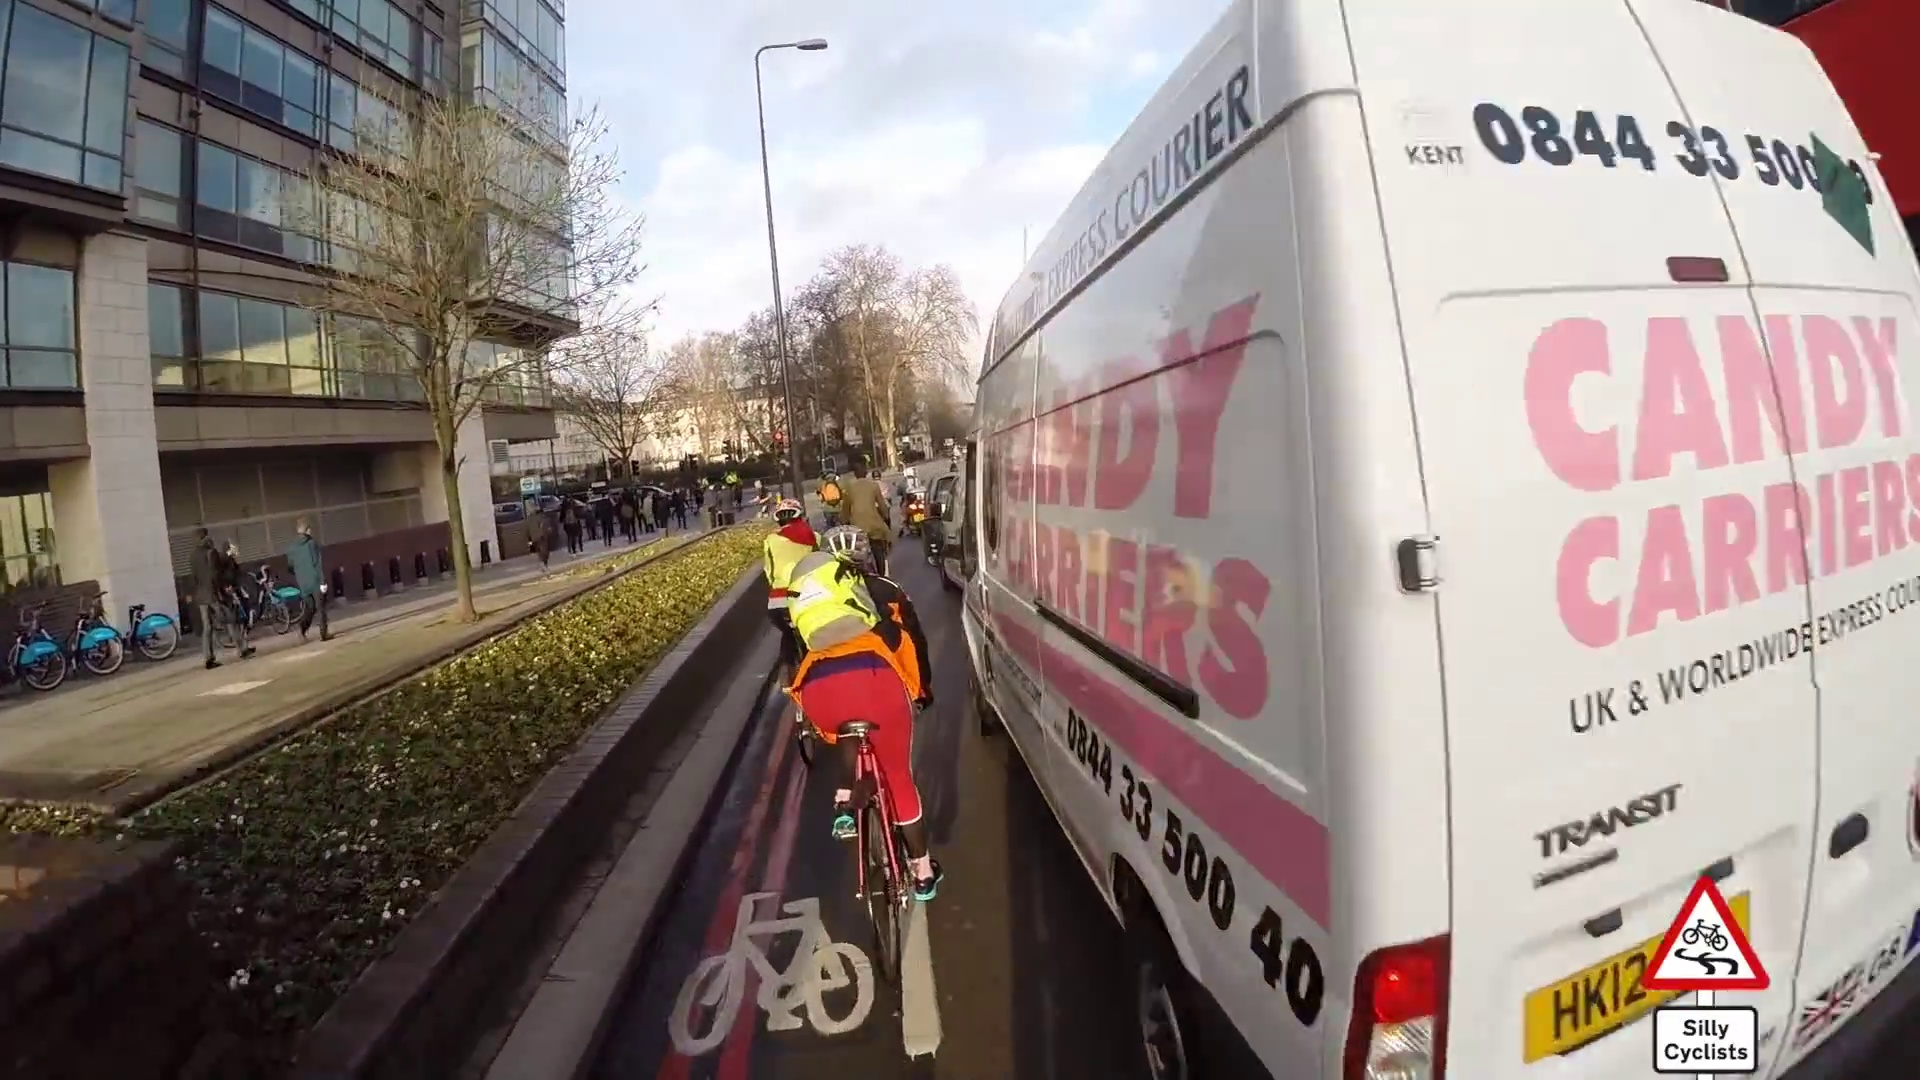cyclist_back: (773, 519, 950, 970)
